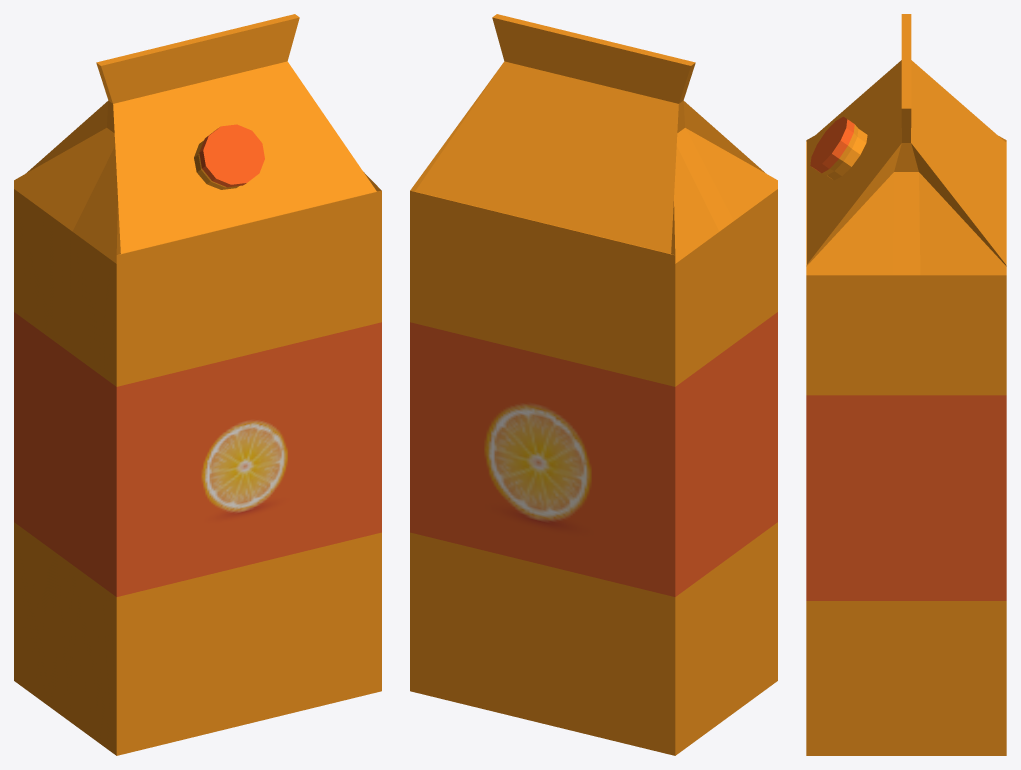
File: orange.fbx
3 views of the same model, side by side, from view 1: azimuth 30°, elevation 25°; view 2: azimuth 150°, elevation 25°; view 3: azimuth 270°, elevation 25° (orthographic). The views are drawn at different scales.
Parts seen in each view (by area): view 1: Cylinder.002; view 2: Cylinder.002; view 3: Cylinder.002.
Boxes of the visible parts, x1,y1,x2,y2 form: Cylinder.002: (14,14,381,755); Cylinder.002: (410,14,777,755); Cylinder.002: (806,14,1006,755).
Size of the model in its own units: 105 by 245 by 70.68.
3 materials, 1 textured.
